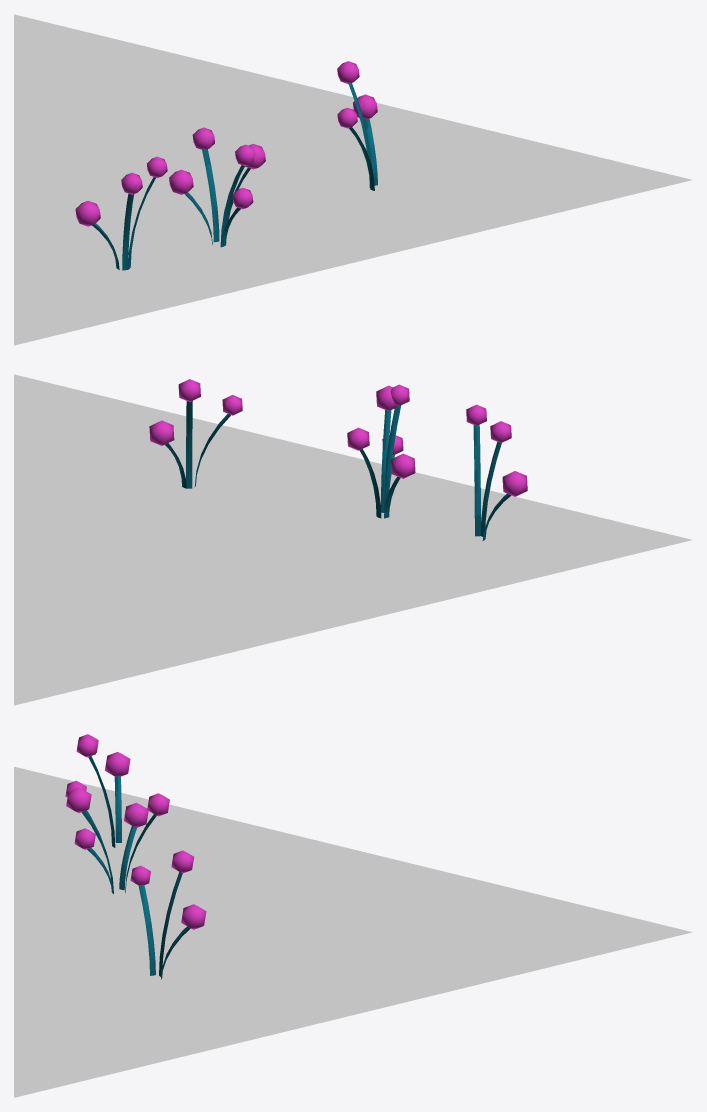
The model's file is MODULE_ALIEN_FULL_1_BULBS.fbx.
The picture shows the model from 3 angles, top to bottom: view 1: azimuth 30°, elevation 25°; view 2: azimuth 150°, elevation 25°; view 3: azimuth 270°, elevation 25°; orthographic projection.
Parts seen in each view (by area): view 1: MODULE_ALIEN_FULL_1_BULBS__export, MODULE_ALIEN_FULL_1_BULBS_DECOR__export; view 2: MODULE_ALIEN_FULL_1_BULBS__export, MODULE_ALIEN_FULL_1_BULBS_DECOR__export; view 3: MODULE_ALIEN_FULL_1_BULBS__export, MODULE_ALIEN_FULL_1_BULBS_DECOR__export.
Boxes of the visible parts, x1,y1,x2,y2 form: MODULE_ALIEN_FULL_1_BULBS__export: (14, 14, 691, 345); MODULE_ALIEN_FULL_1_BULBS_DECOR__export: (75, 61, 377, 270); MODULE_ALIEN_FULL_1_BULBS__export: (14, 374, 691, 705); MODULE_ALIEN_FULL_1_BULBS_DECOR__export: (149, 379, 527, 540); MODULE_ALIEN_FULL_1_BULBS__export: (14, 766, 692, 1097); MODULE_ALIEN_FULL_1_BULBS_DECOR__export: (65, 734, 206, 979).
Bounding box in the file's own units: 100 × 17.78 × 86.6.
